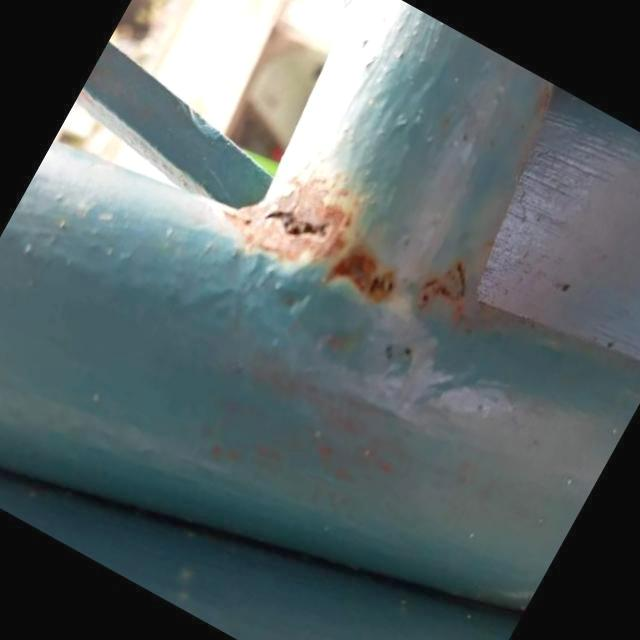defect: (262, 208, 342, 246)
